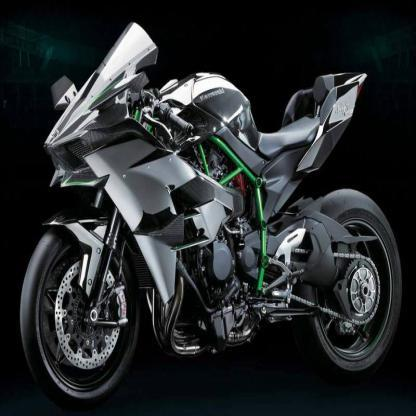Motorcycle: (15, 20, 407, 401)
